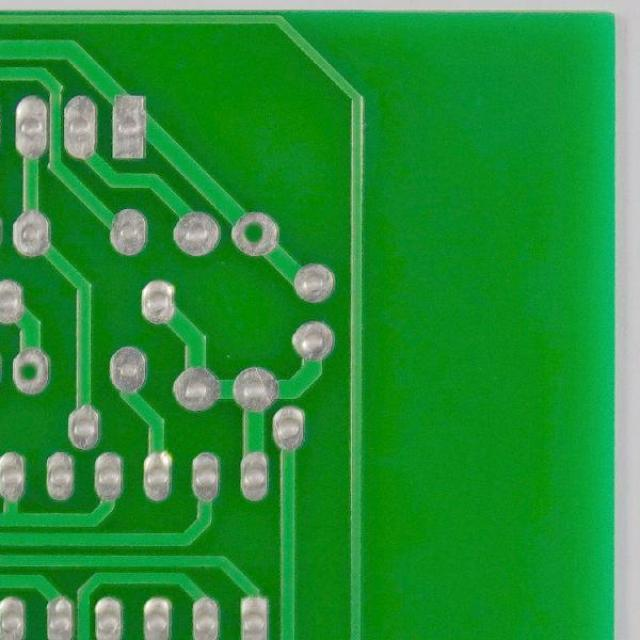Missing_Hole: (226, 207, 285, 259), (8, 347, 52, 398)
